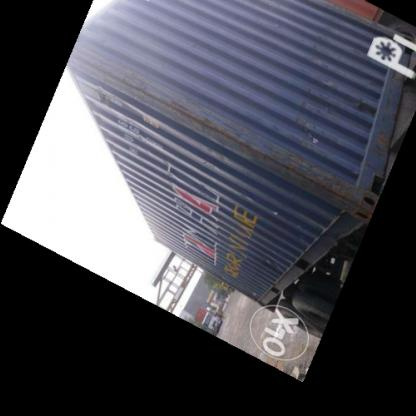Damage: (231, 145, 373, 211), (134, 86, 248, 145), (66, 61, 160, 103)
